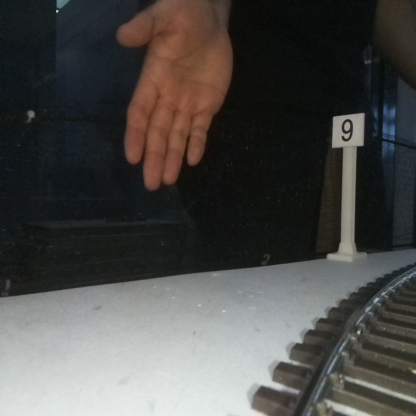white-info-9: (332, 112, 364, 258)
